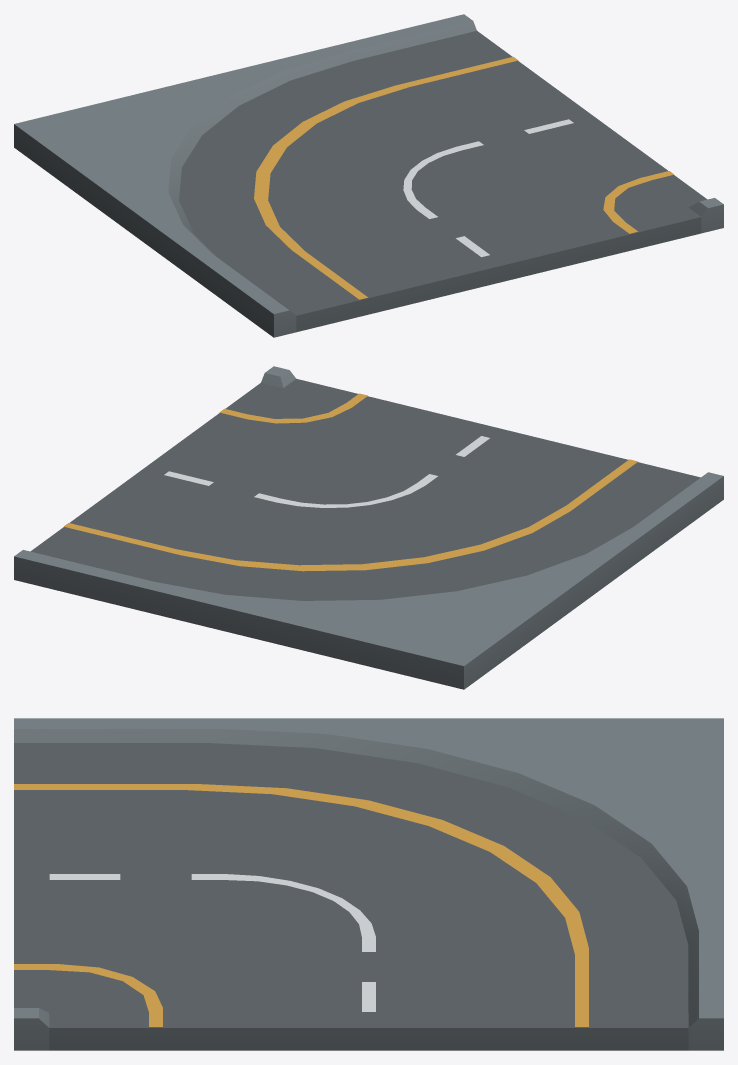
File: road-corner-curved.glb
3 renders of one model, top to bottom at view 1: azimuth 30°, elevation 25°; view 2: azimuth 150°, elevation 25°; view 3: azimuth 270°, elevation 25°, orthographic. The views are drawn at different scales.
Parts seen in each view (by area): view 1: road_corner_curved; view 2: road_corner_curved; view 3: road_corner_curved.
Part boxes in pixels (box(x1,y1,x2,y2)): road_corner_curved: box(14, 14, 723, 337); road_corner_curved: box(14, 366, 723, 689); road_corner_curved: box(14, 718, 723, 1050).
Bounding box in the file's own units: 2 × 0.1 × 2.
1 material, 1 textured.
